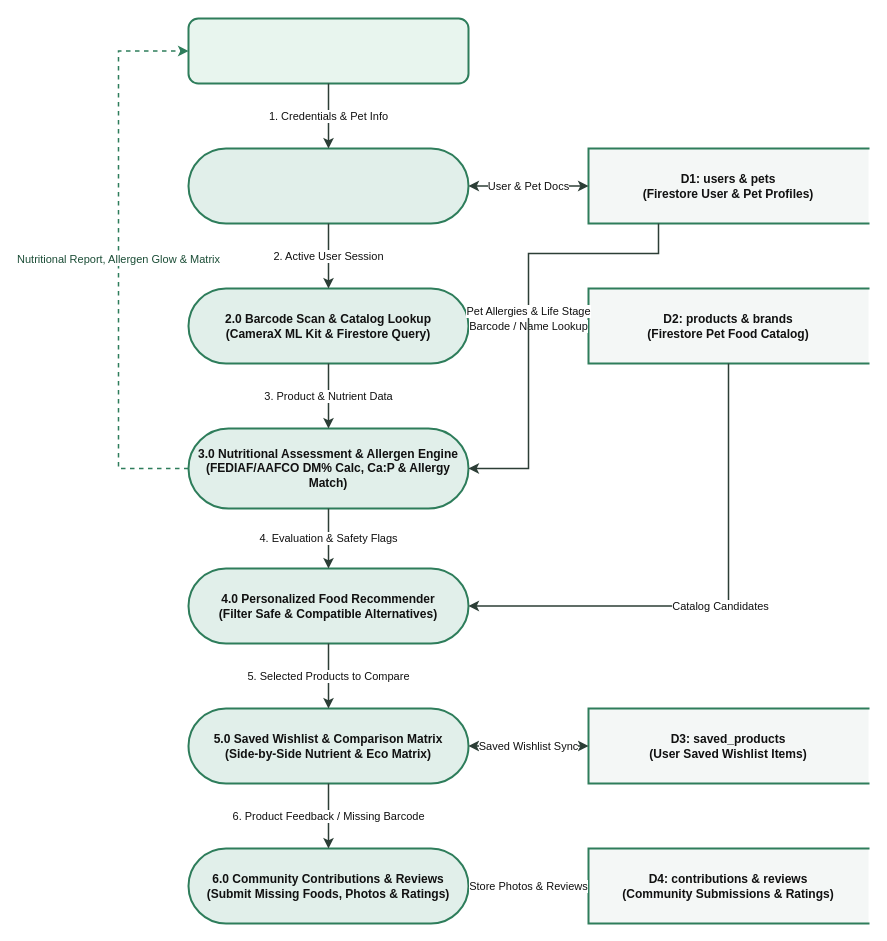
The diagram is 887 pixels wide and 941 high, and some of its shapes have lost their labels. Here are the shapes that lost their labels. From the top down, the centre of each, then its label:
At (328,50): "Pet Parent (User) Guest or Registered User".
At (328,185): "1.0 Auth & Profile Management (Accounts, Pet Profiles, Allergies)".
